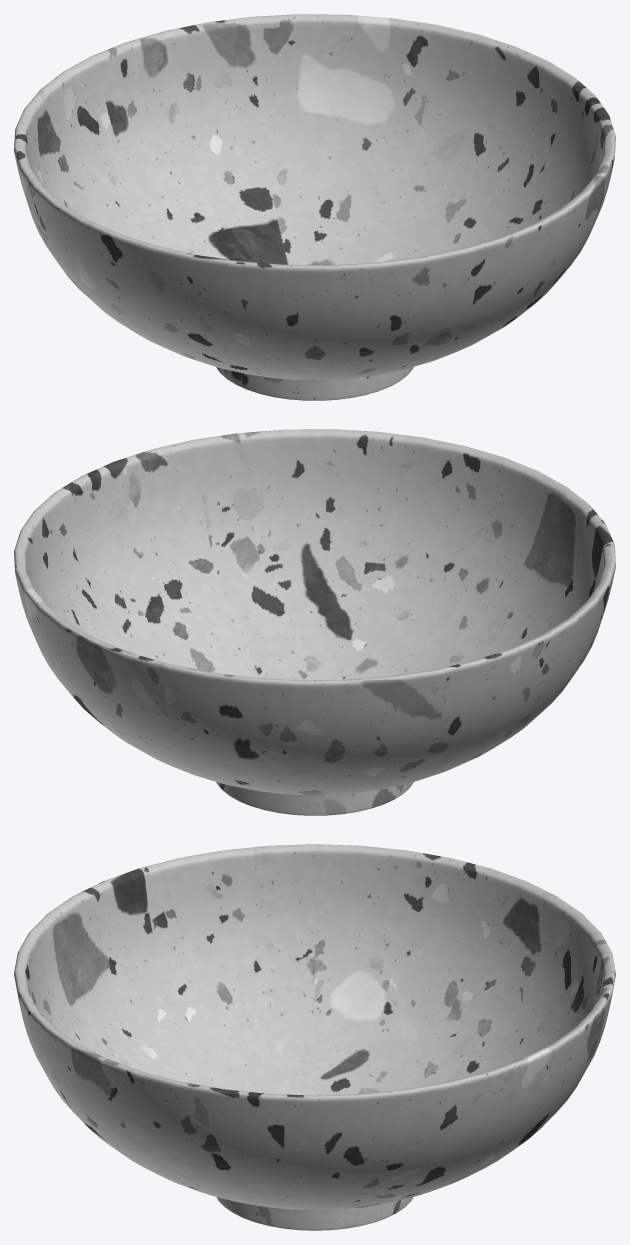
The model's file is Bowl_With_Texture.fbx.
3 renders of one model, top to bottom at view 1: azimuth 30°, elevation 25°; view 2: azimuth 150°, elevation 25°; view 3: azimuth 270°, elevation 25°, orthographic.
Parts seen in each view (by area): view 1: Bowl; view 2: Bowl; view 3: Bowl.
Boxes of the visible parts, x1,y1,x2,y2 form: Bowl: (14, 14, 615, 400); Bowl: (14, 429, 615, 815); Bowl: (14, 844, 615, 1230).
Bounding box in the file's own units: 7.13 × 2.85 × 7.12.
